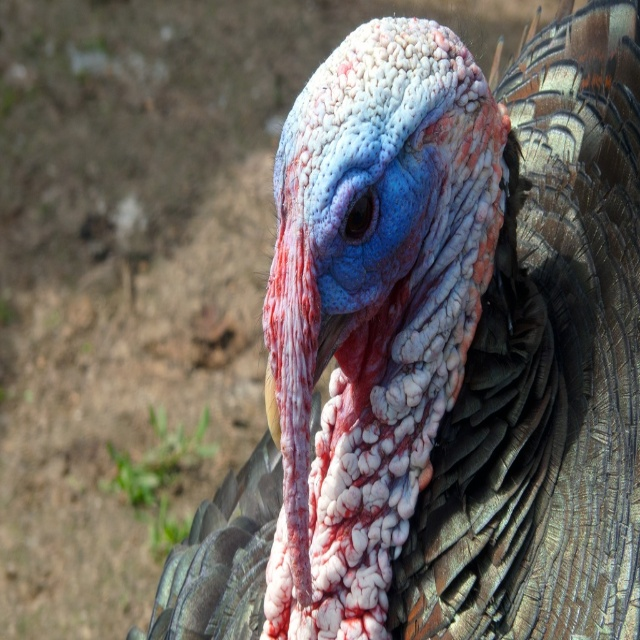Turkey: (127, 0, 640, 640)
